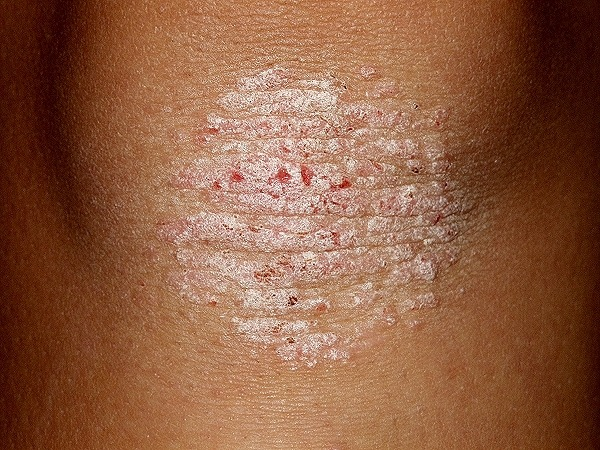Psoriasis: (169, 51, 474, 382)
